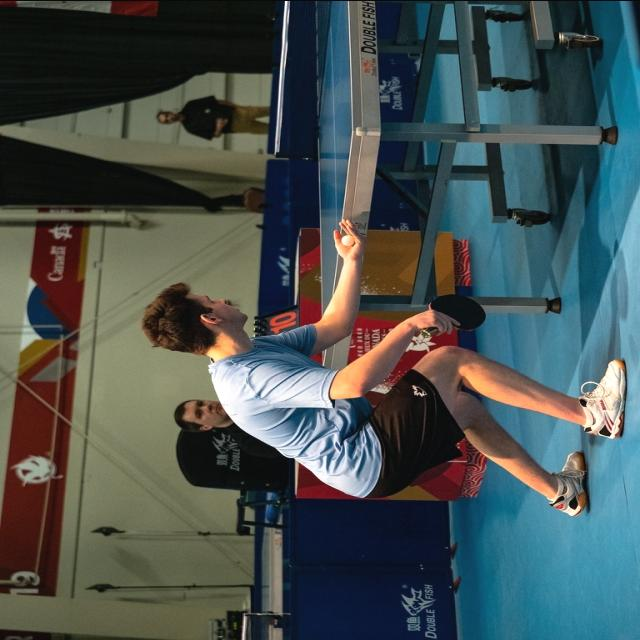TT Net: (271, 0, 336, 162)
TT Racket: (418, 287, 492, 344)
TT Table: (312, 1, 360, 369)
